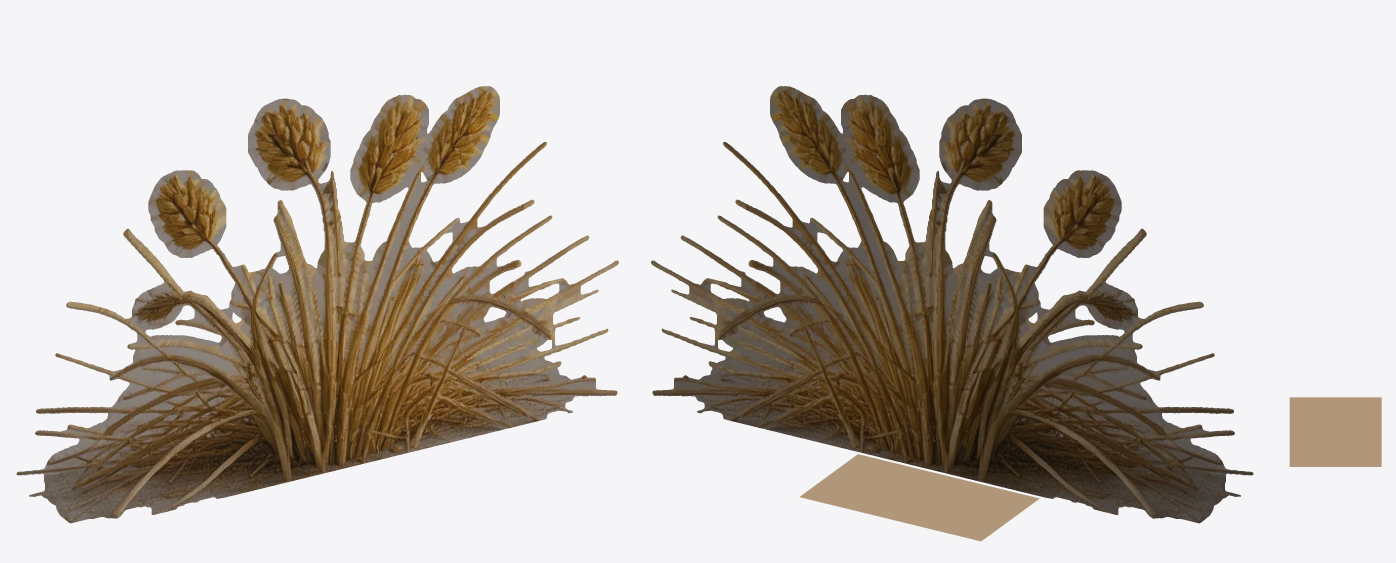
Rendered from toad-prop-sedge-dry.glb.
3 renders of one model, left to right at view 1: azimuth 30°, elevation 25°; view 2: azimuth 150°, elevation 25°; view 3: azimuth 270°, elevation 25°, orthographic. The views are drawn at different scales.
Visible parts, largest first — view 1: sedge-dry; view 2: sedge-dry; view 3: sedge-dry.
Part boxes in pixels (x1=…): sedge-dry: x1=16, y1=86, x2=618, y2=523; sedge-dry: x1=651, y1=86, x2=1253, y2=541; sedge-dry: x1=1289, y1=397, x2=1381, y2=466.
Size of the model in its own units: 0.1968 by 0.12 by 0.035.
Materials: 1 (1 with a texture image).
